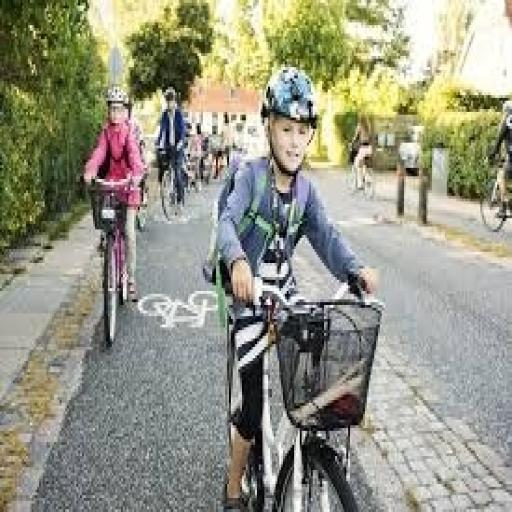cycling: (206, 64, 380, 510), (80, 84, 149, 308), (152, 84, 192, 215)
